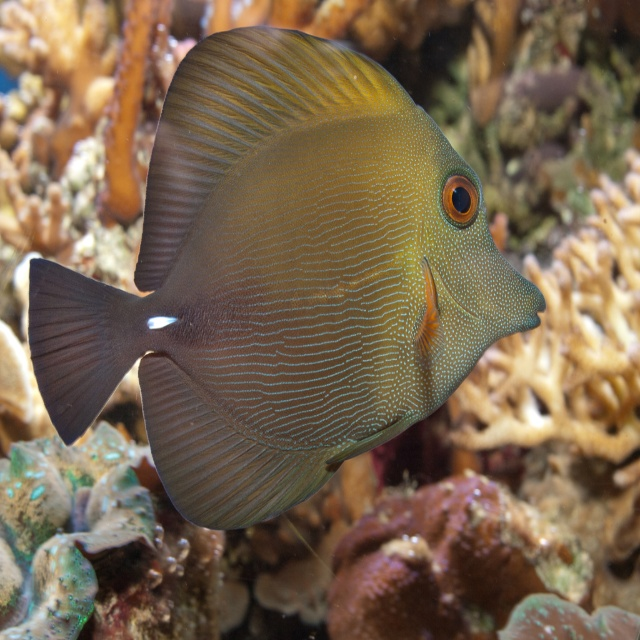Fish: (27, 27, 545, 531)
